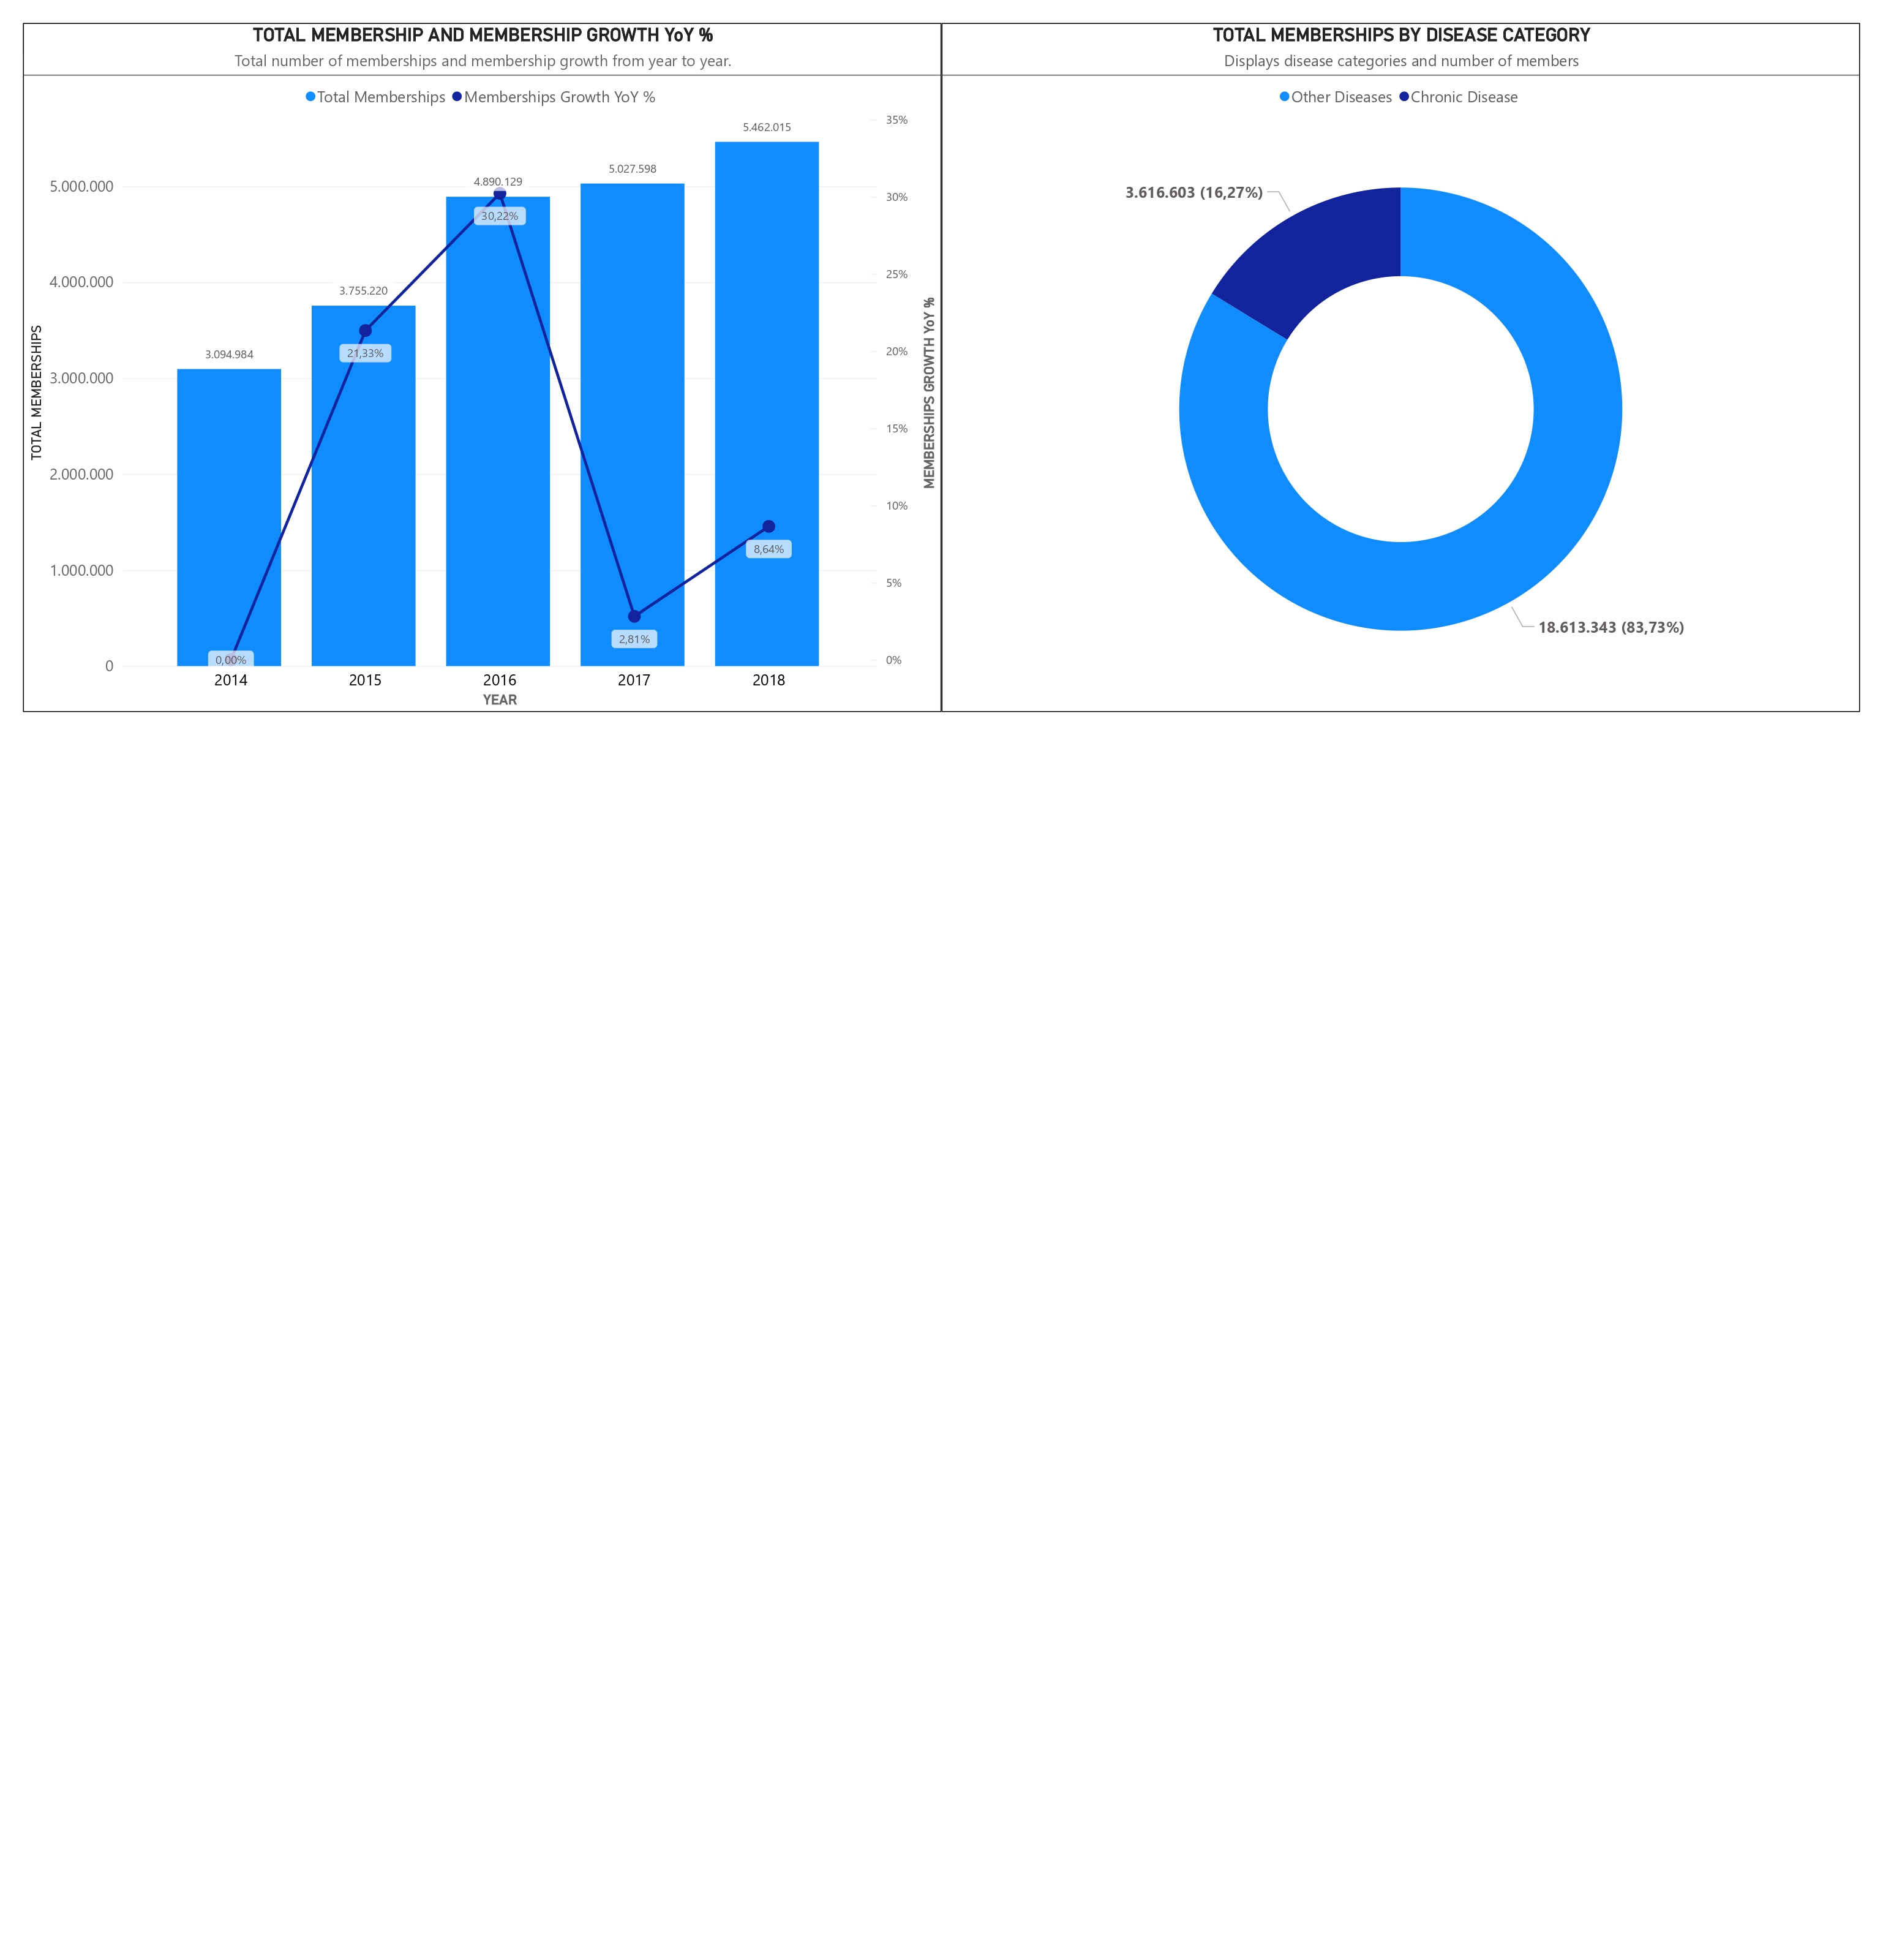

The page's visual inventory and layout, read from the dashboard file:
{"tool":"powerbi","page":{"name":"Pilar 3: Kepesertaan & Kebijakan Publik (Membership & Public Policy)","canvas":[1920,2000],"ordinal":3},"visuals":[{"type":"lineClusteredColumnComboChart","title":"TOTAL MEMBERSHIP AND MEMBERSHIP GROWTH YoY %","fields":{"Category":["Master_RITL_2014_2018.Tahun"],"Y":["Master_RITL_2014_2018.Total Peserta"],"Y2":["Master_RITL_2014_2018.Pertumbuhan Peserta YoY %"]},"box":[0,0,960,720],"z":0},{"type":"donutChart","title":"TOTAL MEMBERSHIPS BY DISEASE CATEGORY","fields":{"Category":["Master_RITL_2014_2018.Kategori Penyakit"],"Y":["Master_RITL_2014_2018.Total Peserta"]},"box":[960,0,960,720],"z":1000}]}

Visuals, with their boxes in screenshot pixels (x1, y1, x2, y2), scaled from the page's 1920x2000 canvas onto the 1883x1960 screenshot:
"TOTAL MEMBERSHIP AND MEMBERSHIP GROWTH YoY %" lineClusteredColumnComboChart: <box>0,0,942,706</box>
"TOTAL MEMBERSHIPS BY DISEASE CATEGORY" donutChart: <box>942,0,1882,706</box>
